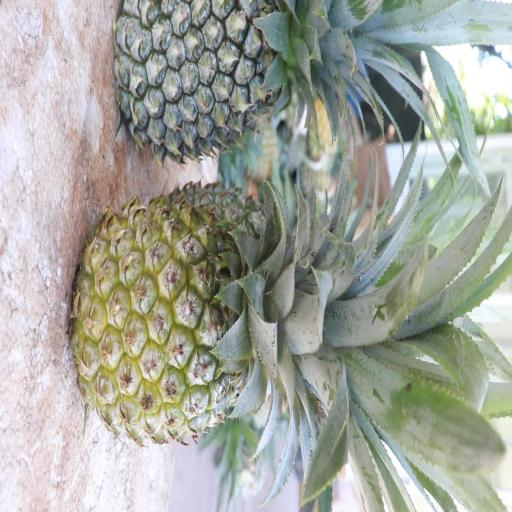------------------------------: (72, 190, 364, 454)
